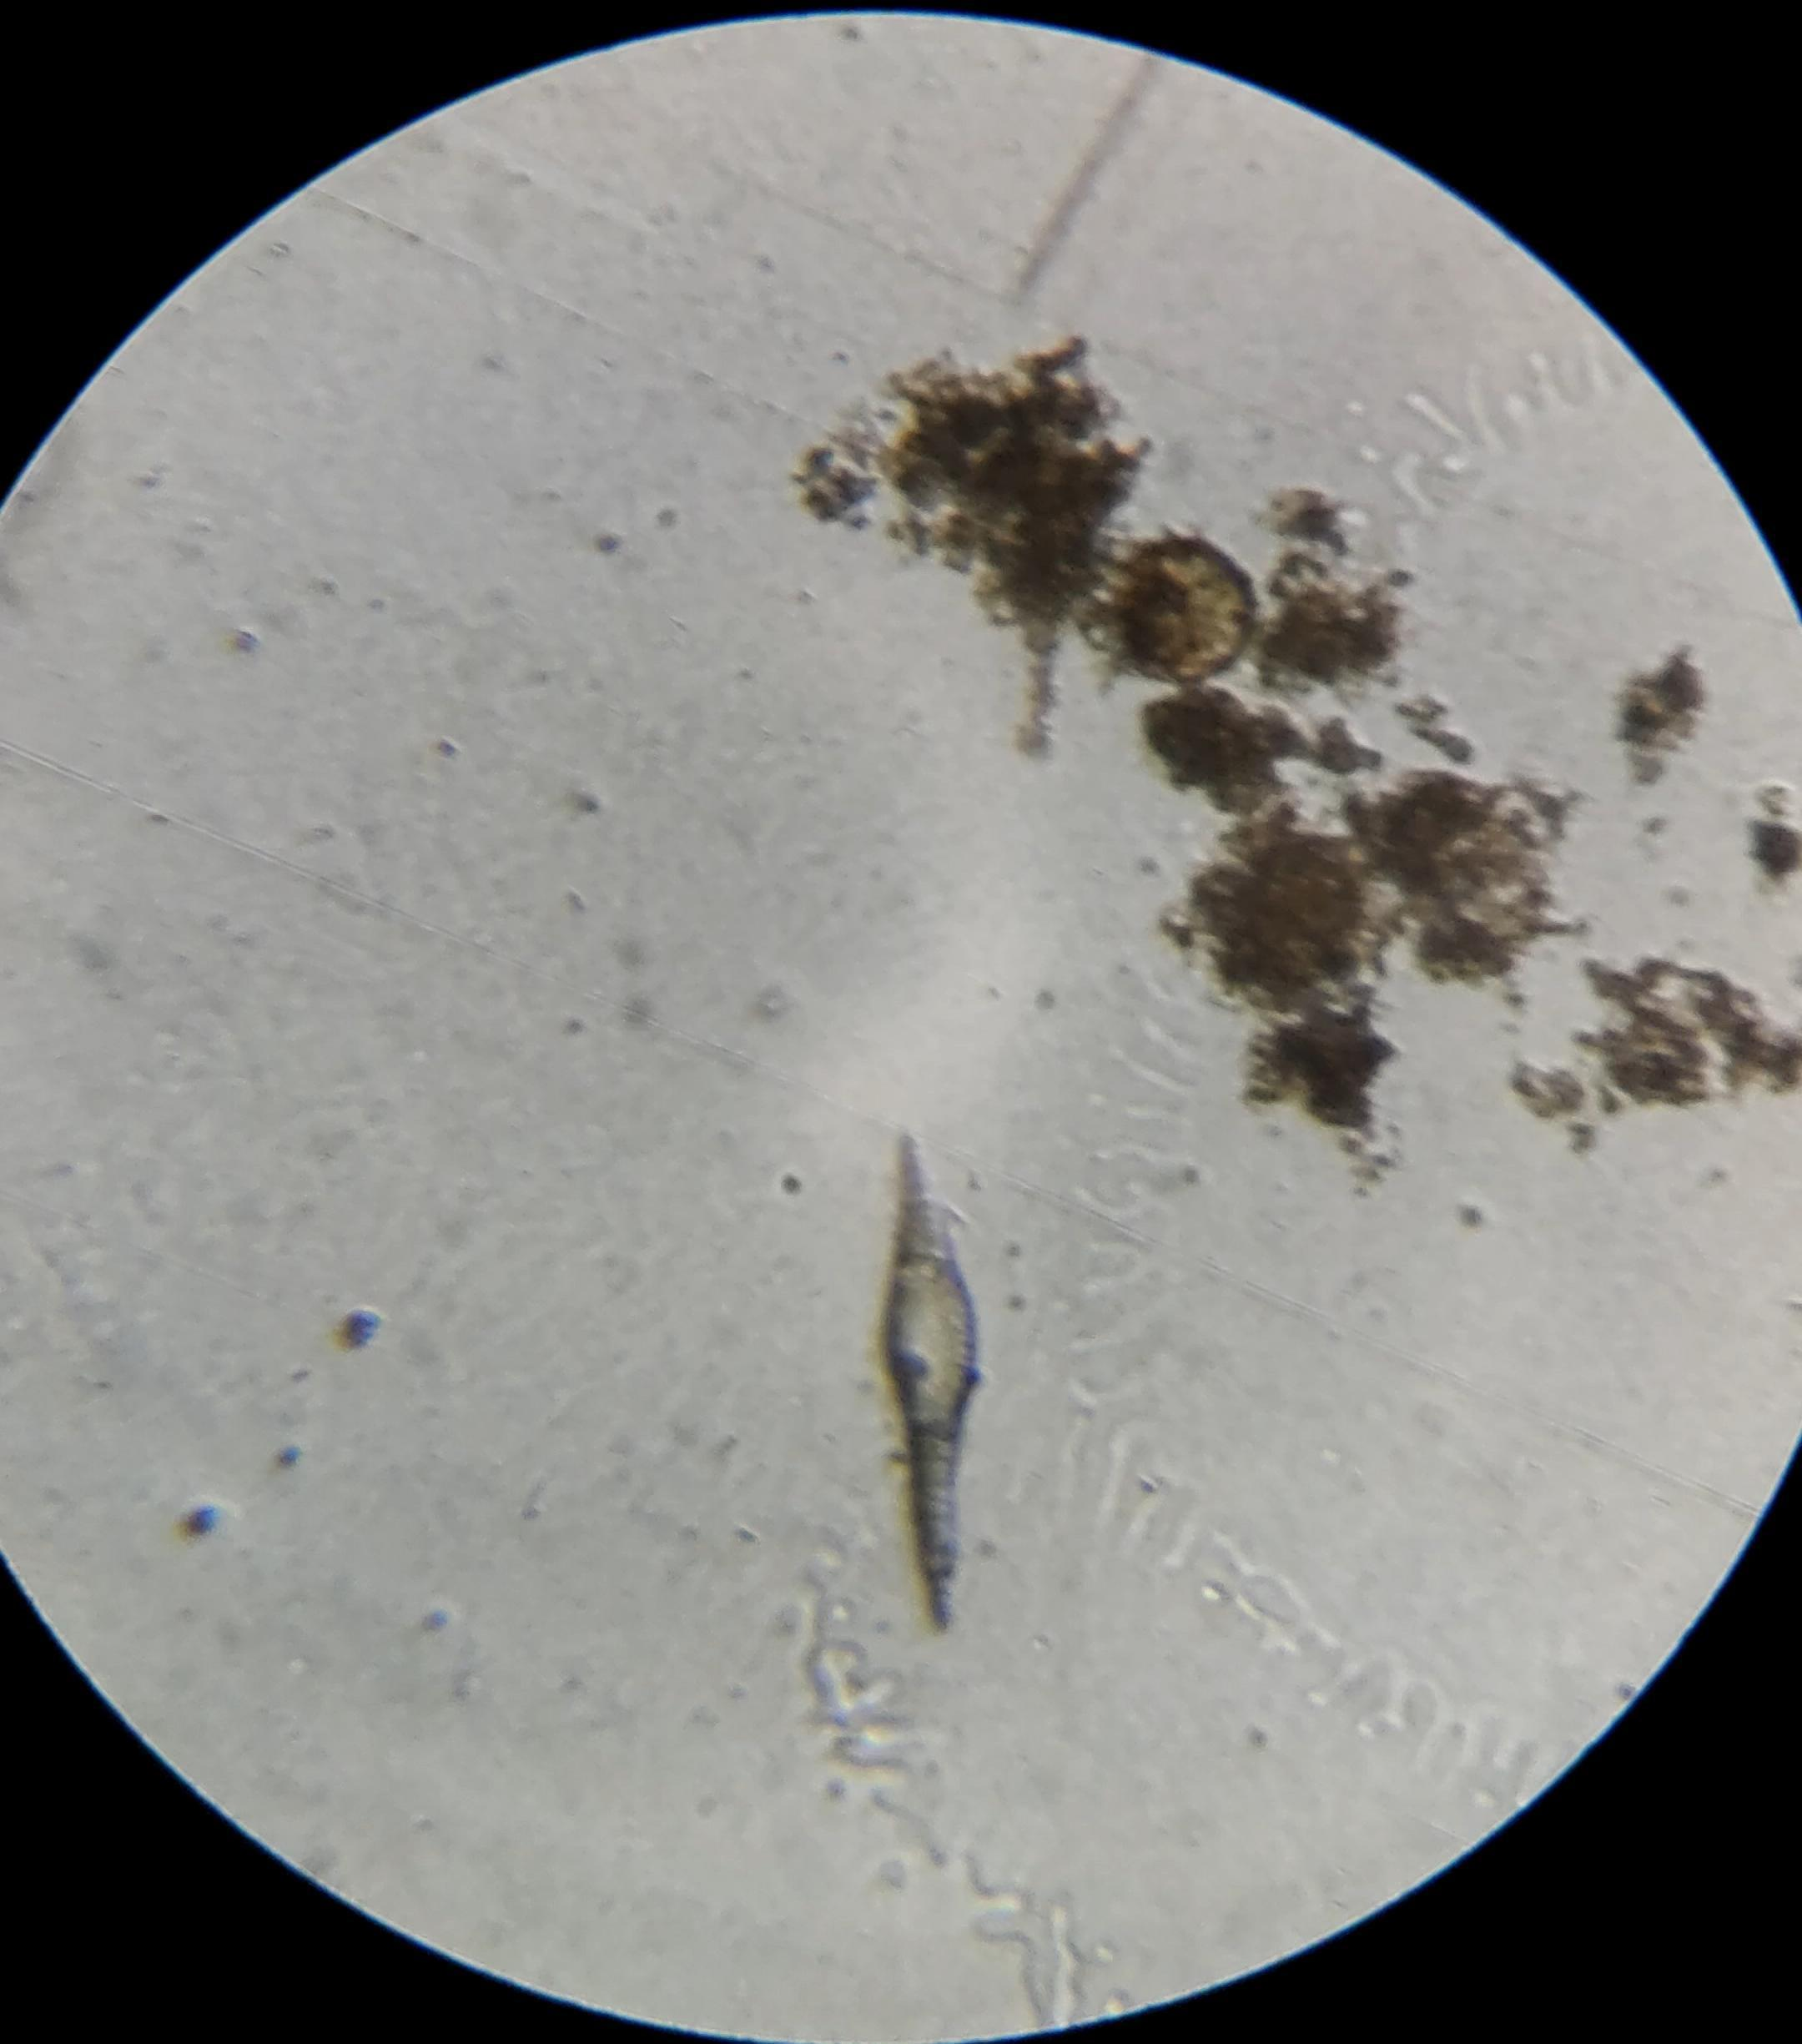Arcella: (1120, 541, 1249, 684)
